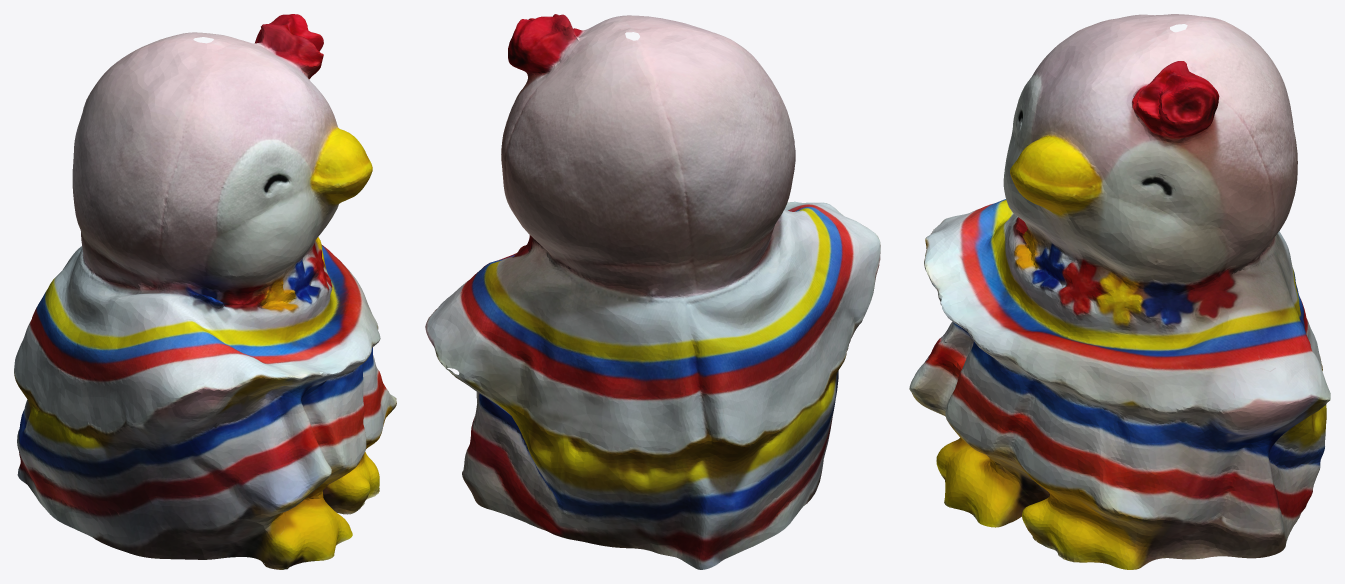
File: pinguino.glb
3 views of the same model, side by side, from view 1: azimuth 30°, elevation 25°; view 2: azimuth 150°, elevation 25°; view 3: azimuth 270°, elevation 25° (orthographic). The views are drawn at different scales.
Size of the model in its own units: 0.5179 by 0.6782 by 0.5489.
1 material, 1 textured.
